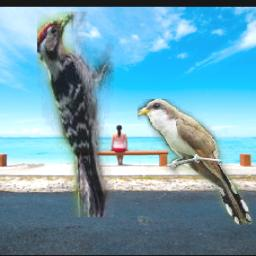Cuckoo: (138, 99, 253, 225)
Woodpecker: (37, 12, 114, 217)
